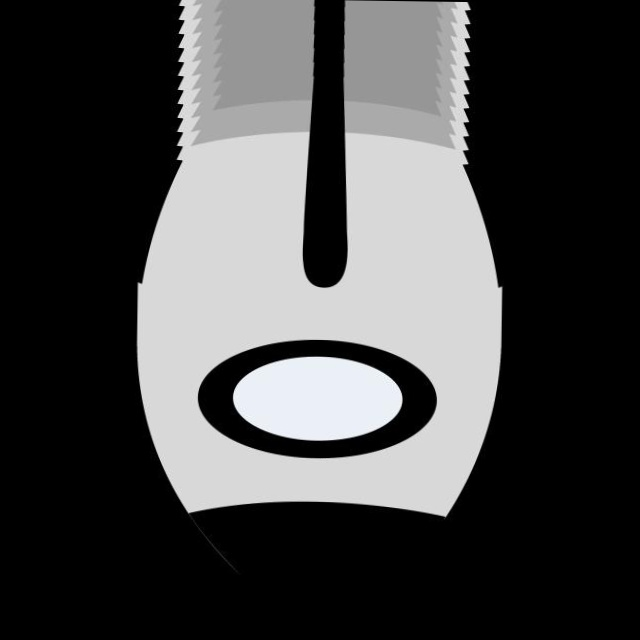rocket: (0, 0, 631, 640)
